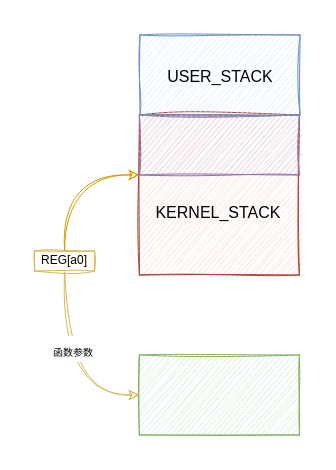
Image size: 336x470. Some labels were removed from this diagram. The centre of each missing label's shape, as x and y in pixels:
"__restore" belongs at point 218,394.
"app_context" belongs at point 218,144.
